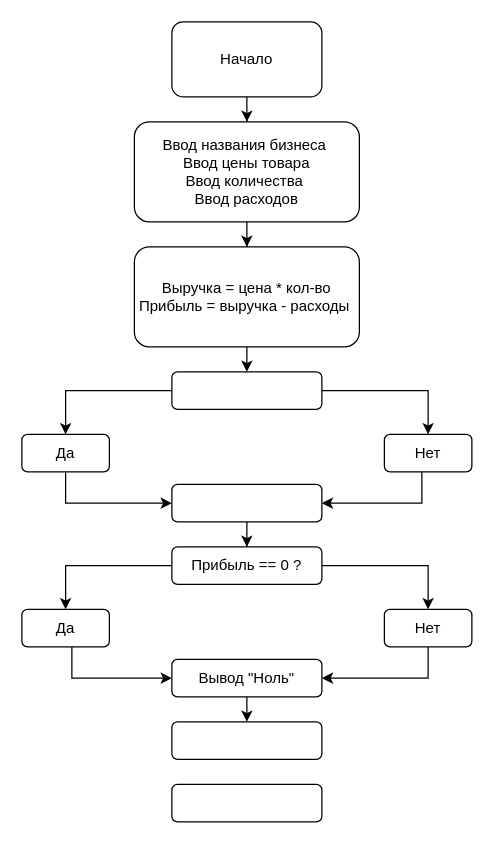
Some shapes in this 494 by 844 pixel diagram are drawn without their labels. Each missing label, with the box of its shape:
Вывод "Прибыль": (171, 483, 322, 522)
Вывод "Убыток": (171, 721, 322, 759)
Конец: (171, 783, 322, 822)
прибыль > 0 ?: (171, 371, 322, 409)
